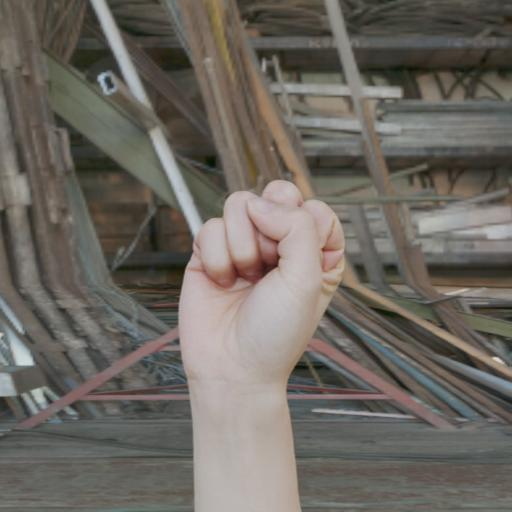S: (172, 178, 354, 382)
